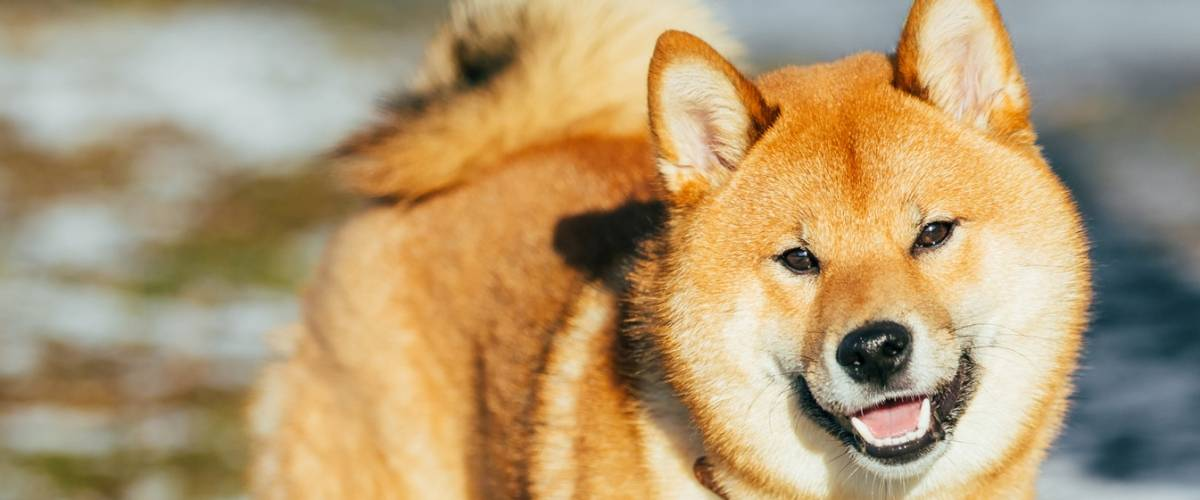dog: (580, 1, 1164, 494)
